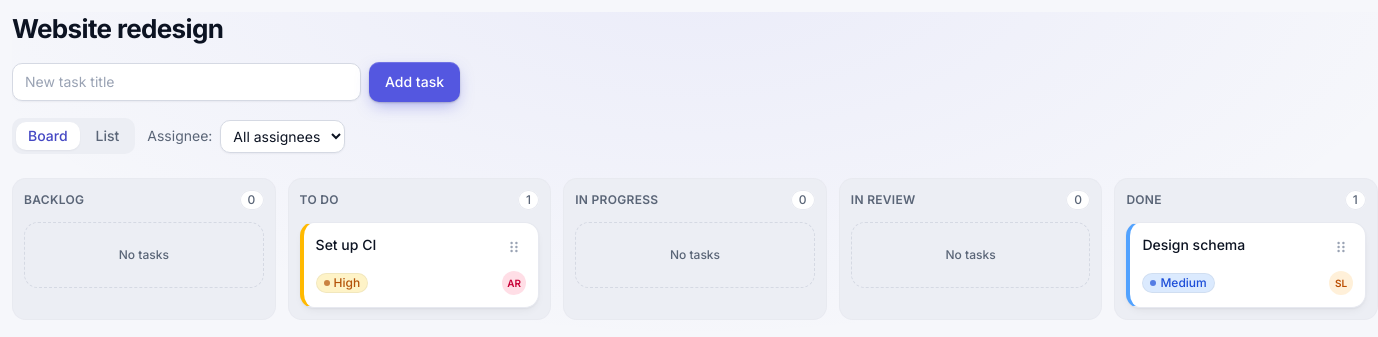
Test: ProjectBoardPage › switches to the list view and filters by status
The width and height of the screenshot is (1378, 337).
Expected: the button "Set up CI" is shown, [316,235,376,255]
Click the button "List".
click(107, 136)  # box [84,122,131,150]
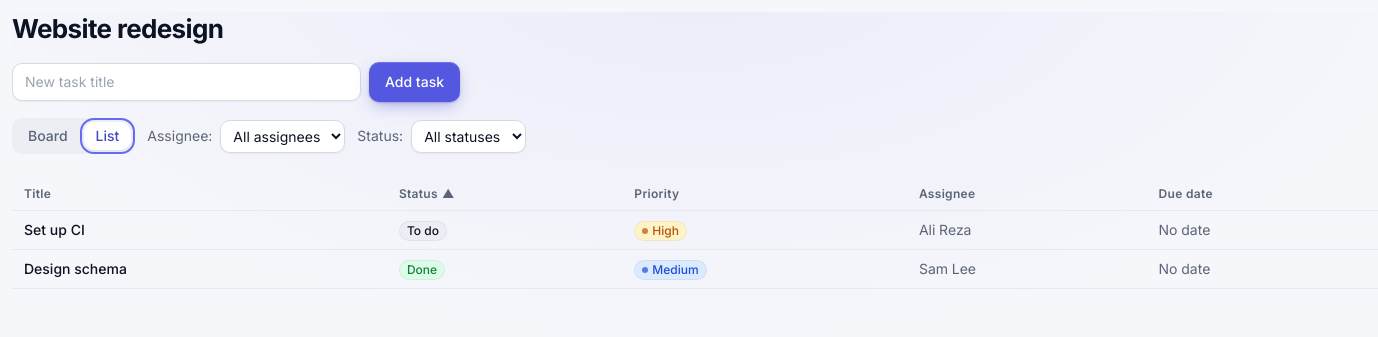
Expected: the button "Set up CI" is shown, [24,220,85,240]
Select "To do" in the dropdown named "Filter by status" at (469, 136), box [411,120,526,152]
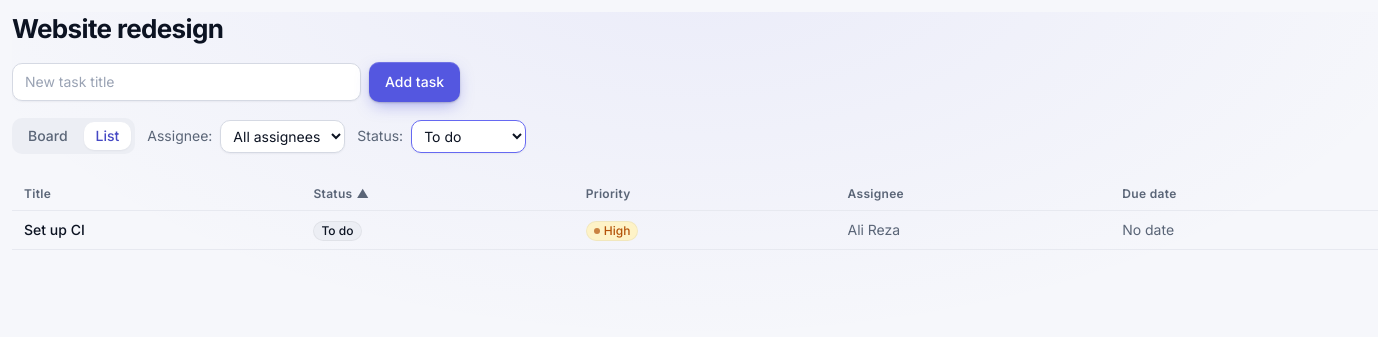
Expected: the button "Set up CI" is shown, [24,220,85,240]
Expected: the button "Design schema" is gone
